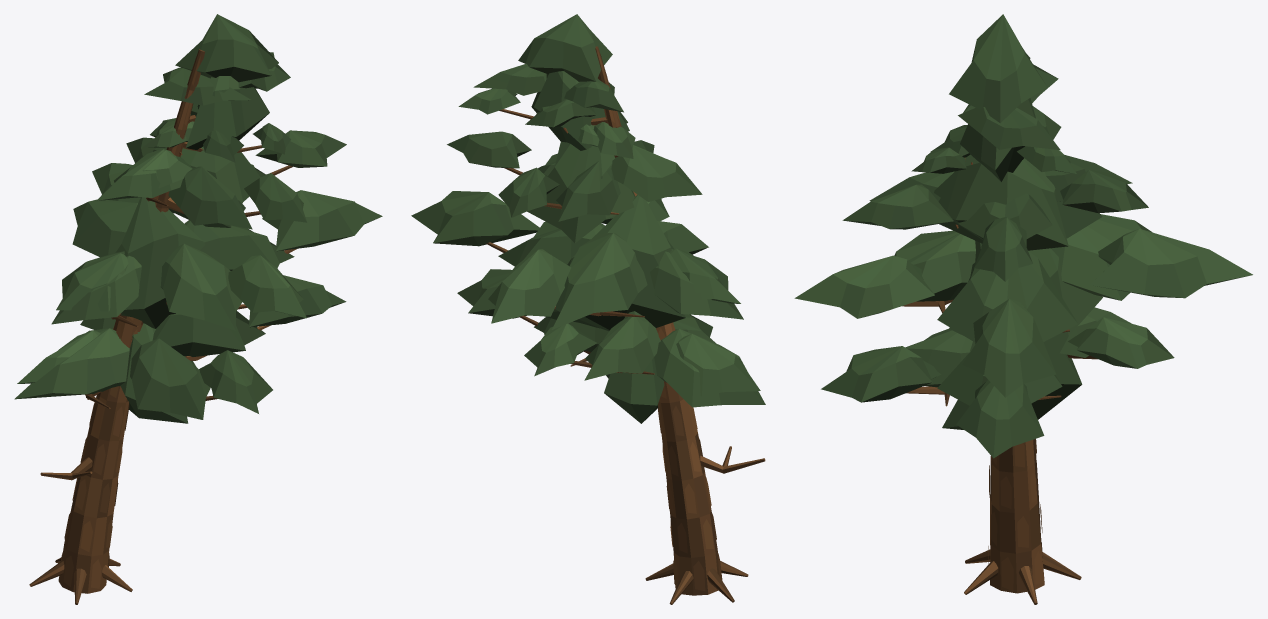
The model's file is pine-05.glb.
3 renders of one model, left to right at view 1: azimuth 30°, elevation 25°; view 2: azimuth 150°, elevation 25°; view 3: azimuth 270°, elevation 25°, orthographic. The views are drawn at different scales.
Visible parts, largest first — view 1: pine-05; view 2: pine-05; view 3: pine-05.
Part boxes in pixels (x1,y1,x2,y2): pine-05: (14, 14, 382, 604); pine-05: (411, 14, 765, 604); pine-05: (794, 14, 1252, 604).
Size of the model in its own units: 4.9 by 7 by 4.54.
